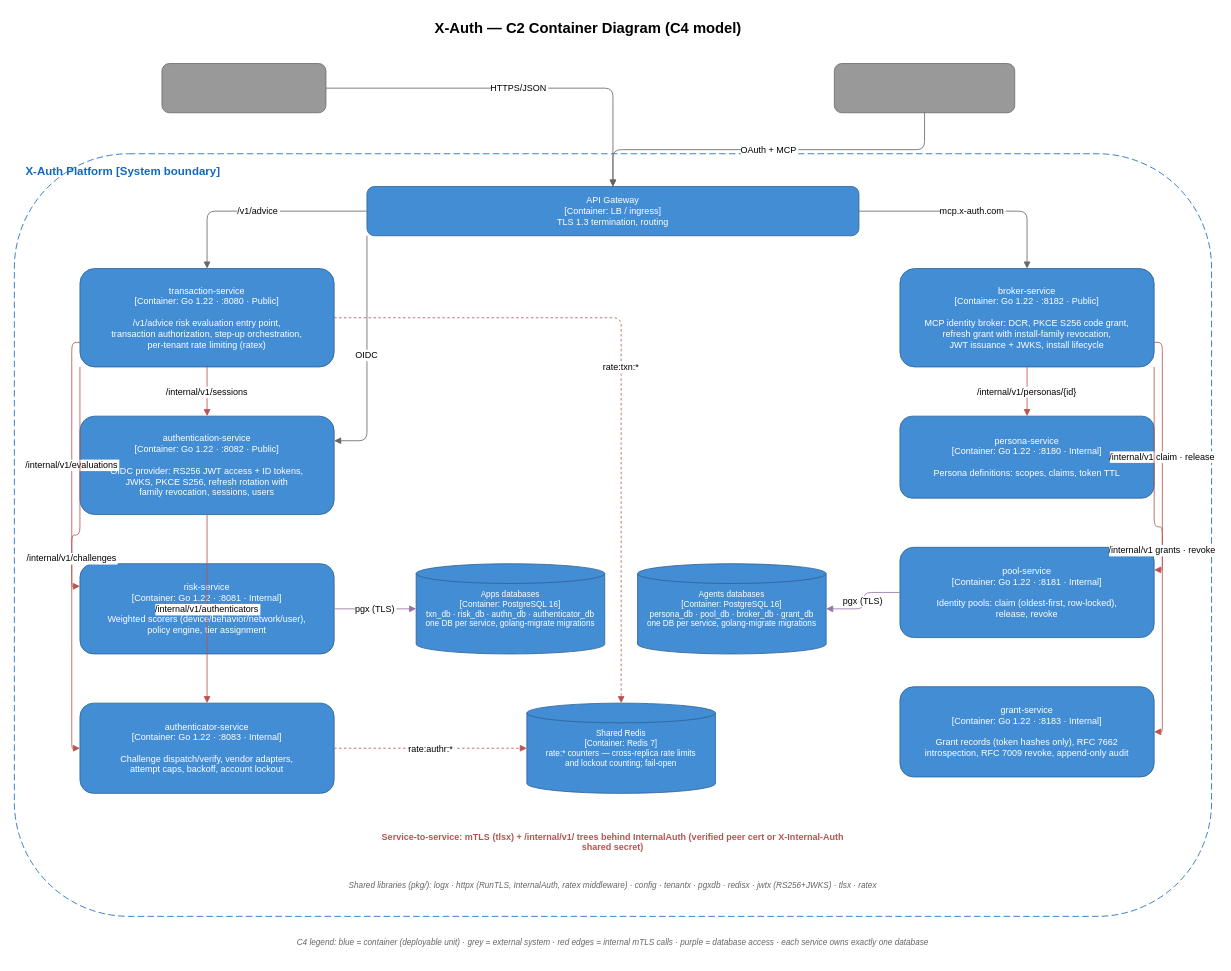
Image size: 1231x971. Some labels were removed from this diagram. The shapes that lost their labels are listed below. From the top down, each one's centre as x and y in pixels, then its label:
At [243,88]: "Customer Application [Software System]".
At [924,88]: "AI Agent Runtime (MCP client) [Software System]".
